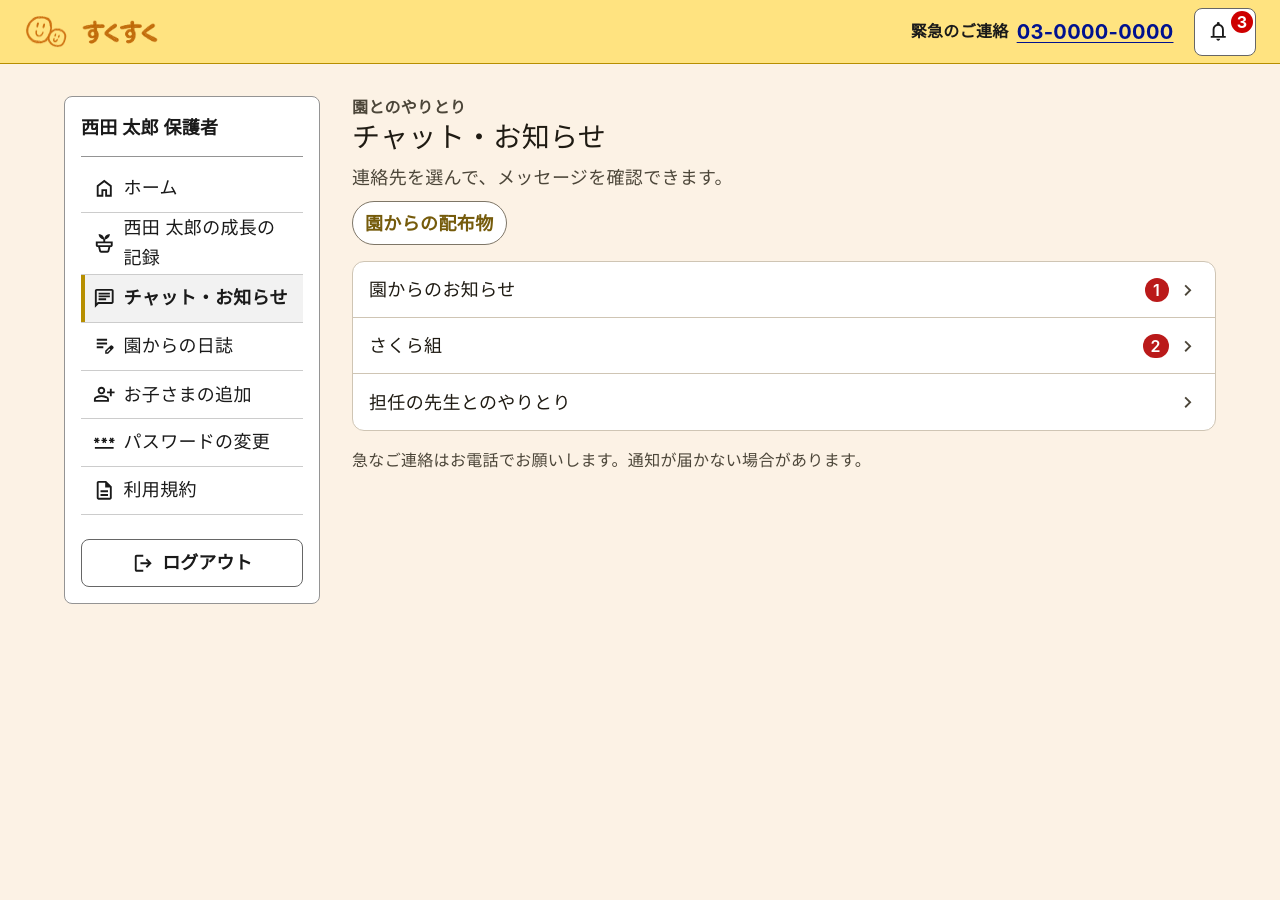
Test: 保育士と保護者の画面を並べたとき › チャット（保護者）：園からの返信が、入力中の文字を消さずに表れる
Check: the text "読み込んでいます" is not shown
Step 1. Click the button "担任の先生とのやりとり" → (470, 402), box [353,374,1215,430]
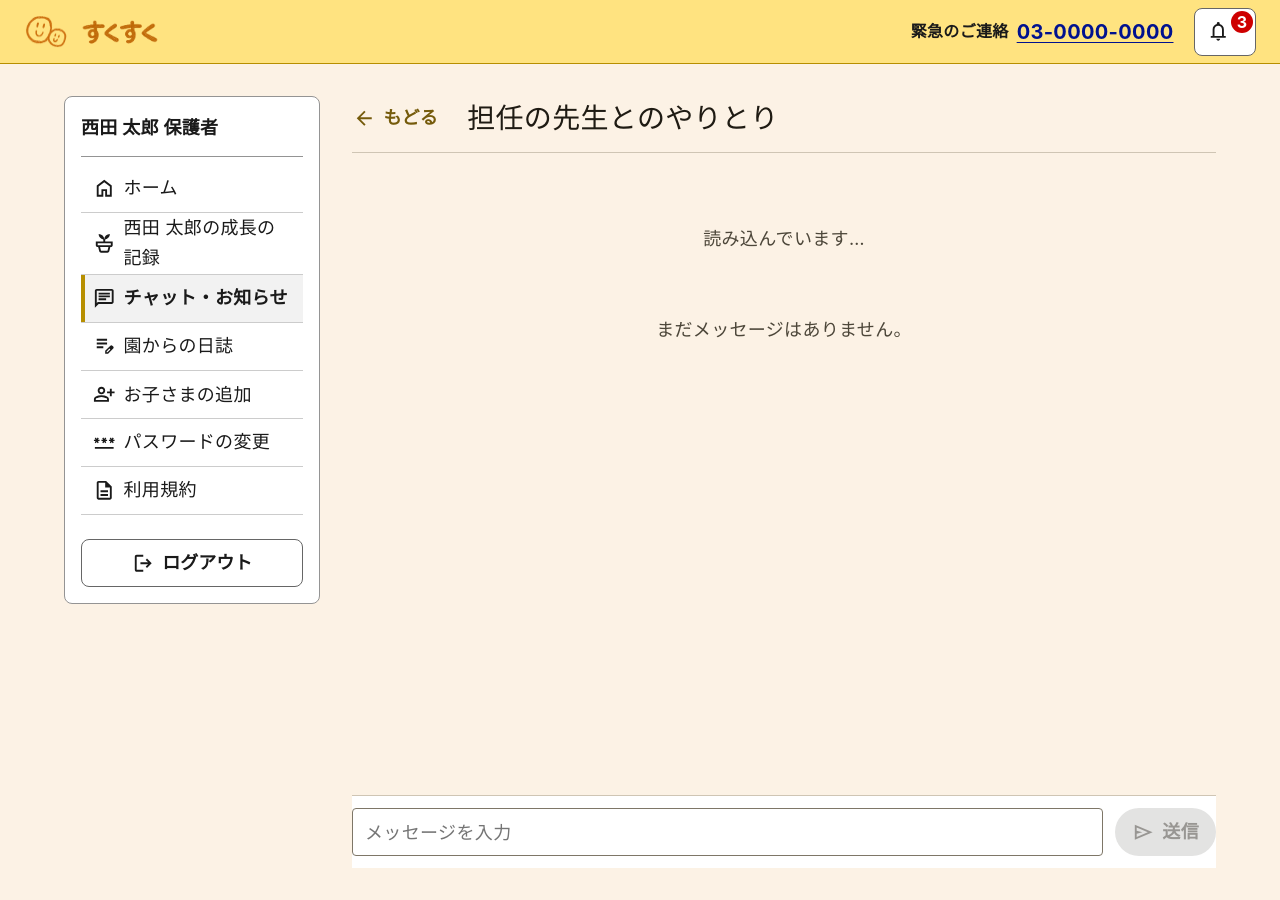
Step 2. Type "ありがとうございま" into the field labelled "メッセージを入力" → (727, 832), box [352,808,1103,856]
Wait 5000 ms
(page scrolled)
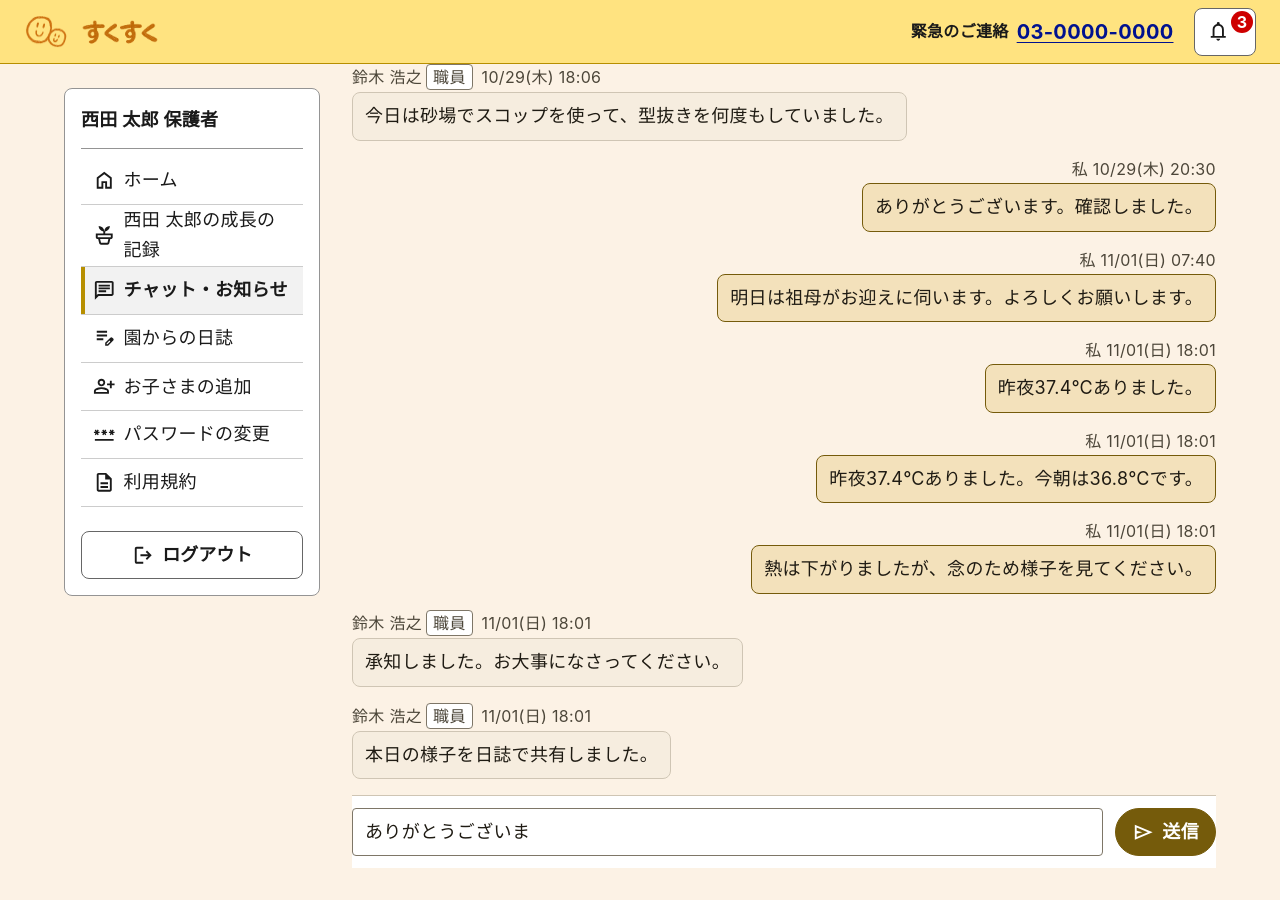
Check: the text "本日の様子を日誌で共有しました。" is shown, box [352,730,671,779]
